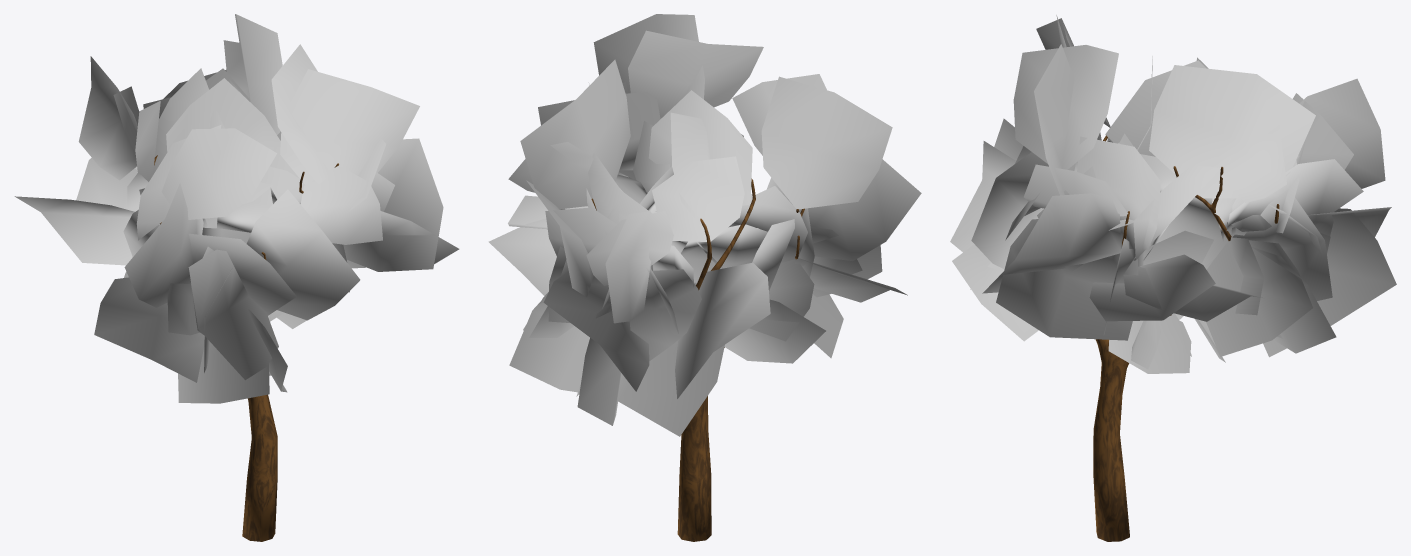
The model's file is Oak Tree.fbx.
3 views of the same model, side by side, from view 1: azimuth 30°, elevation 25°; view 2: azimuth 150°, elevation 25°; view 3: azimuth 270°, elevation 25° (orthographic). The views are drawn at different scales.
Parts seen in each view (by area): view 1: Oak Tree; view 2: Oak Tree; view 3: Oak Tree.
Part boxes in pixels (x1,y1,x2,y2): Oak Tree: (14, 14, 459, 541); Oak Tree: (488, 14, 921, 541); Oak Tree: (950, 15, 1396, 541).
Bounding box in the file's own units: 8.01 × 8.33 × 10.37.
